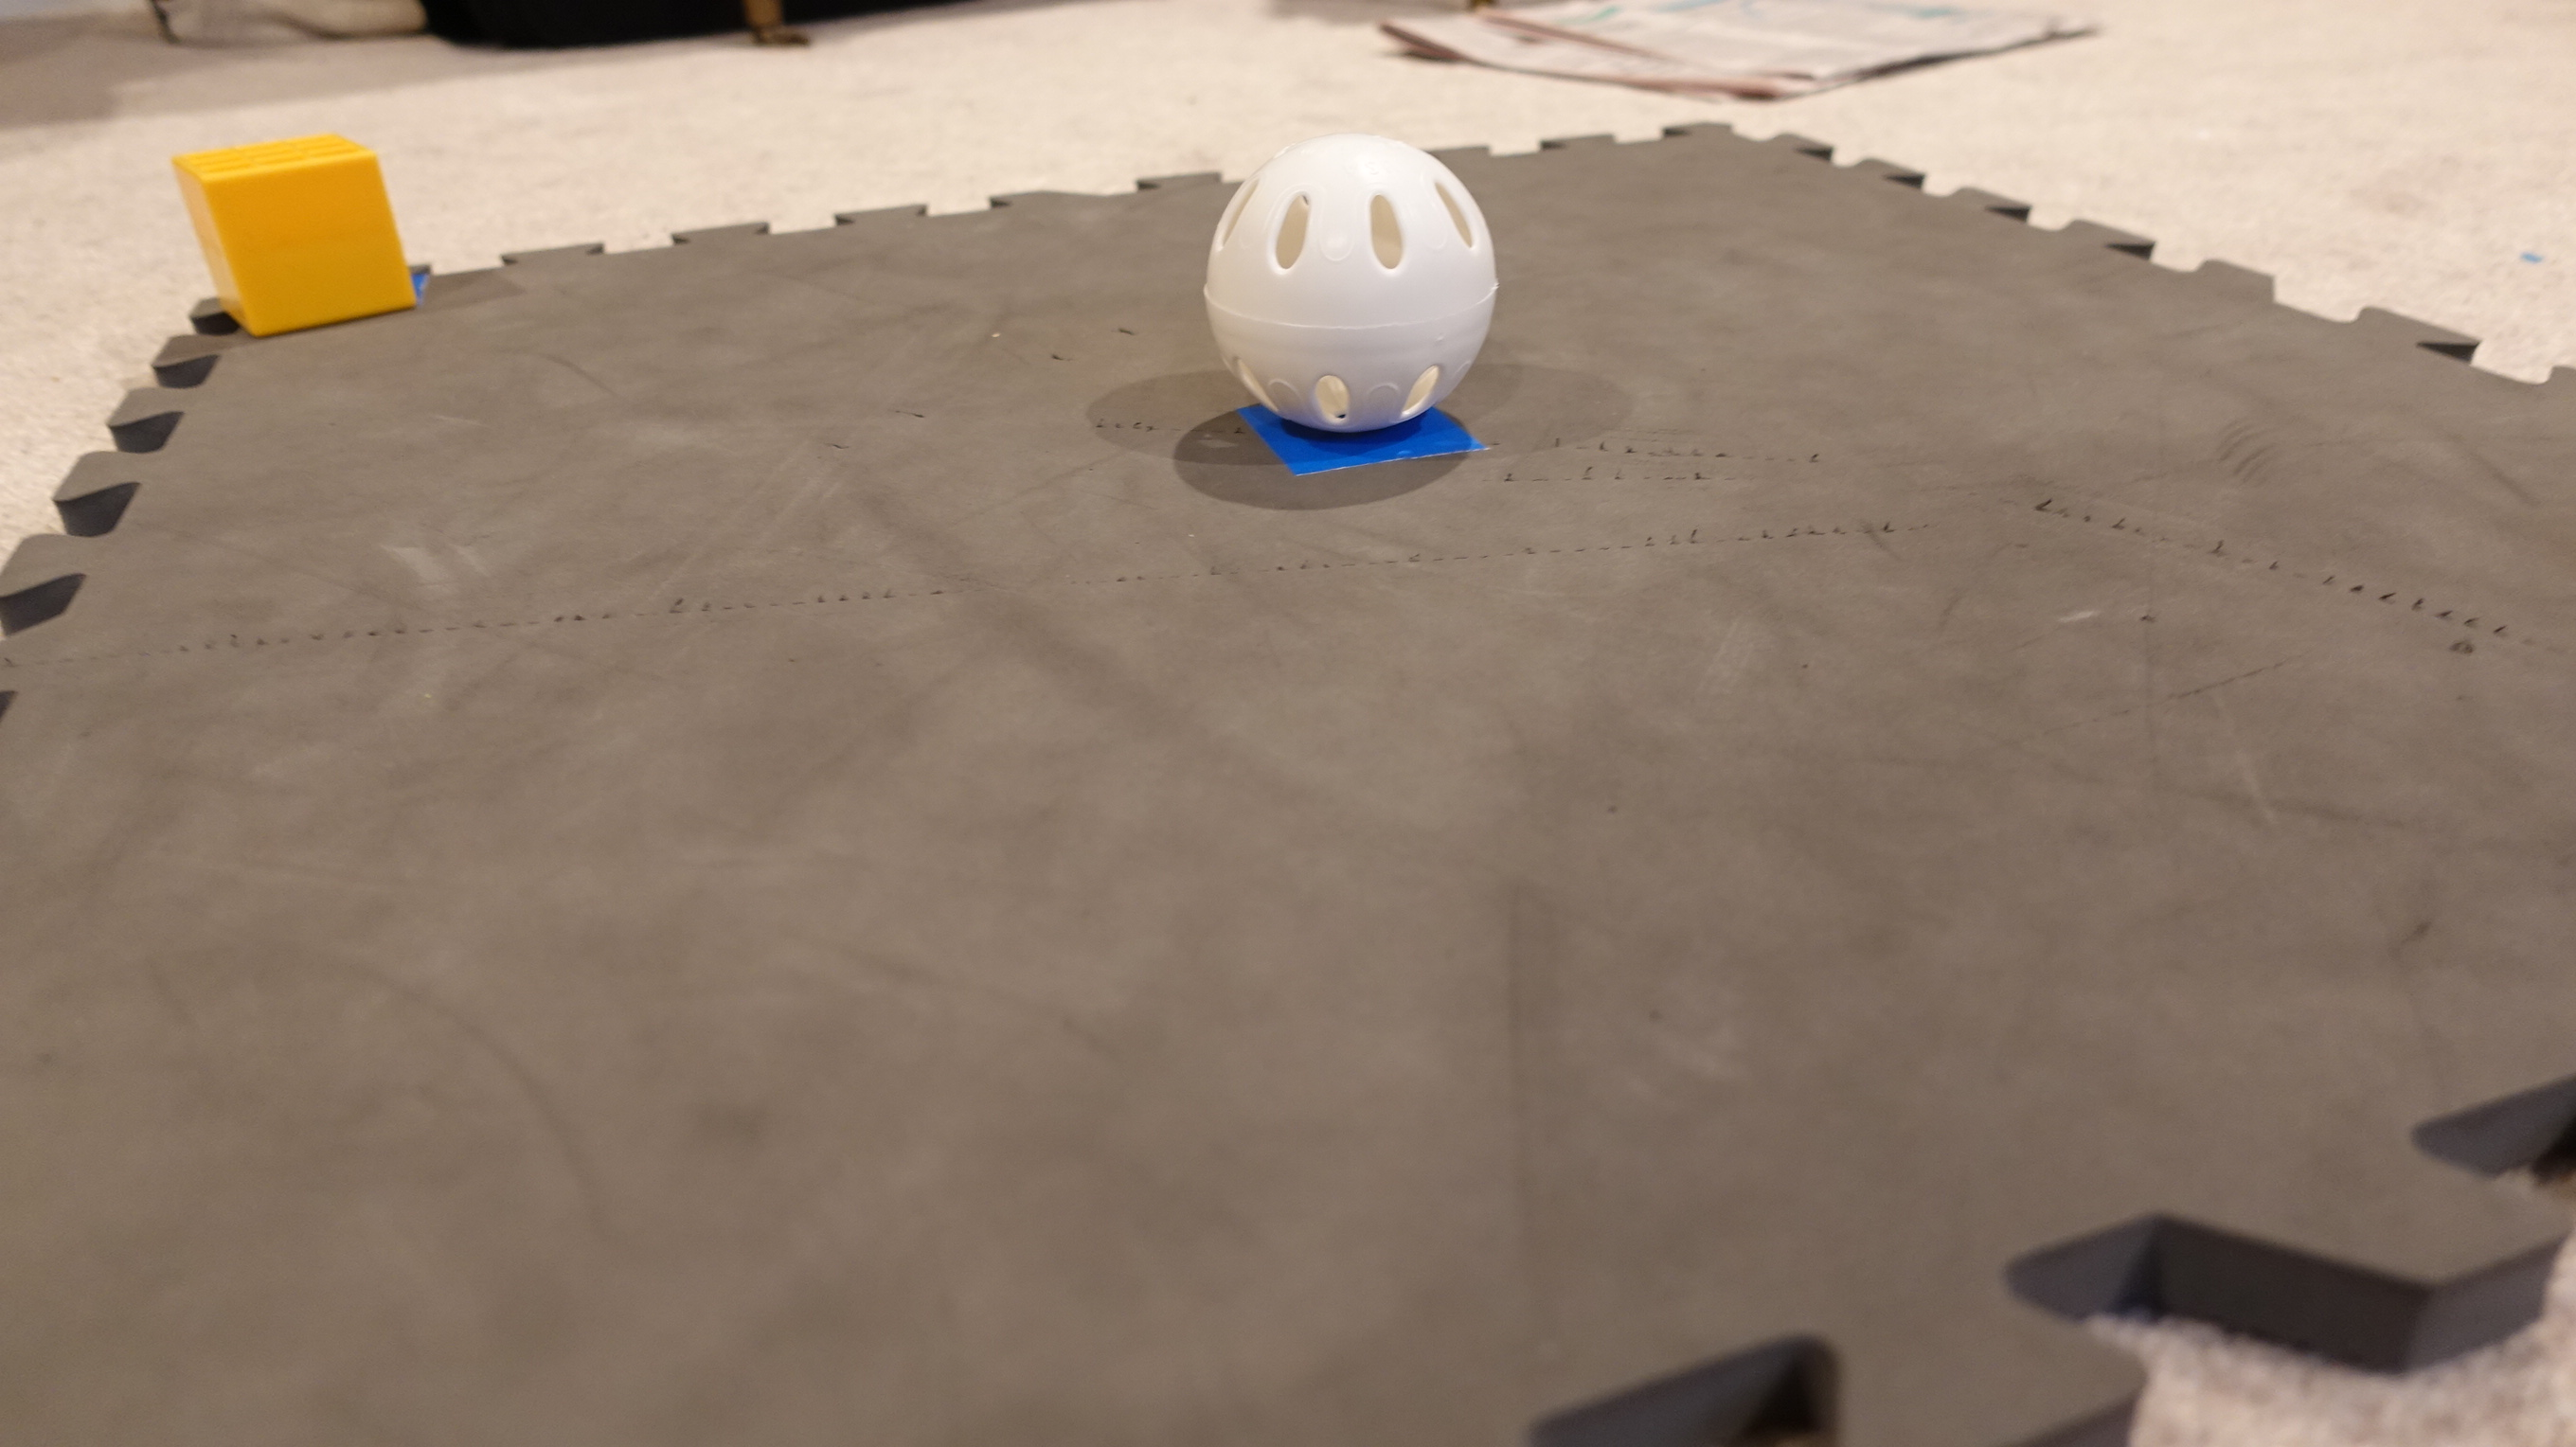gold: (149, 124, 435, 345)
silver: (1192, 133, 1523, 437)
